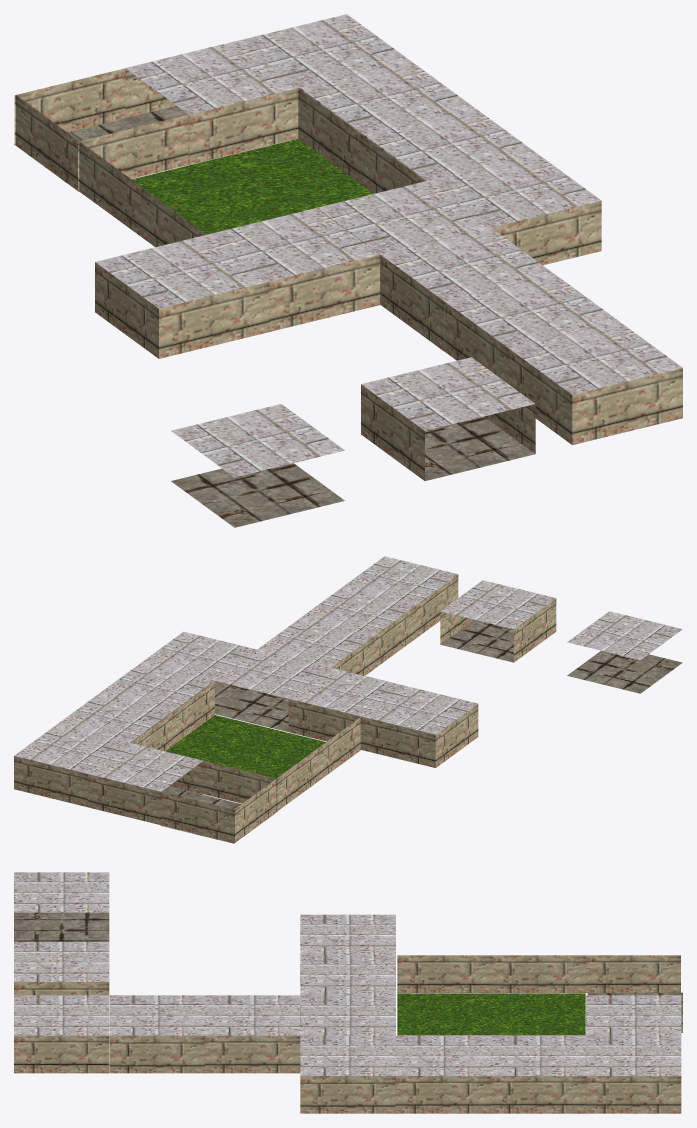
Rendered from test_hall_mapped2.obj.
3 renders of one model, top to bottom at view 1: azimuth 30°, elevation 25°; view 2: azimuth 150°, elevation 25°; view 3: azimuth 270°, elevation 25°, orthographic. The views are drawn at different scales.
Parts seen in each view (by area): view 1: mesh01; view 2: mesh01; view 3: mesh01.
Part boxes in pixels (x1,y1,x2,y2): mesh01: [14, 14, 682, 527]; mesh01: [14, 556, 682, 843]; mesh01: [14, 872, 682, 1113].
Bounding box in the file's own units: 6227 × 538 × 8642.
1 material, 1 textured.
